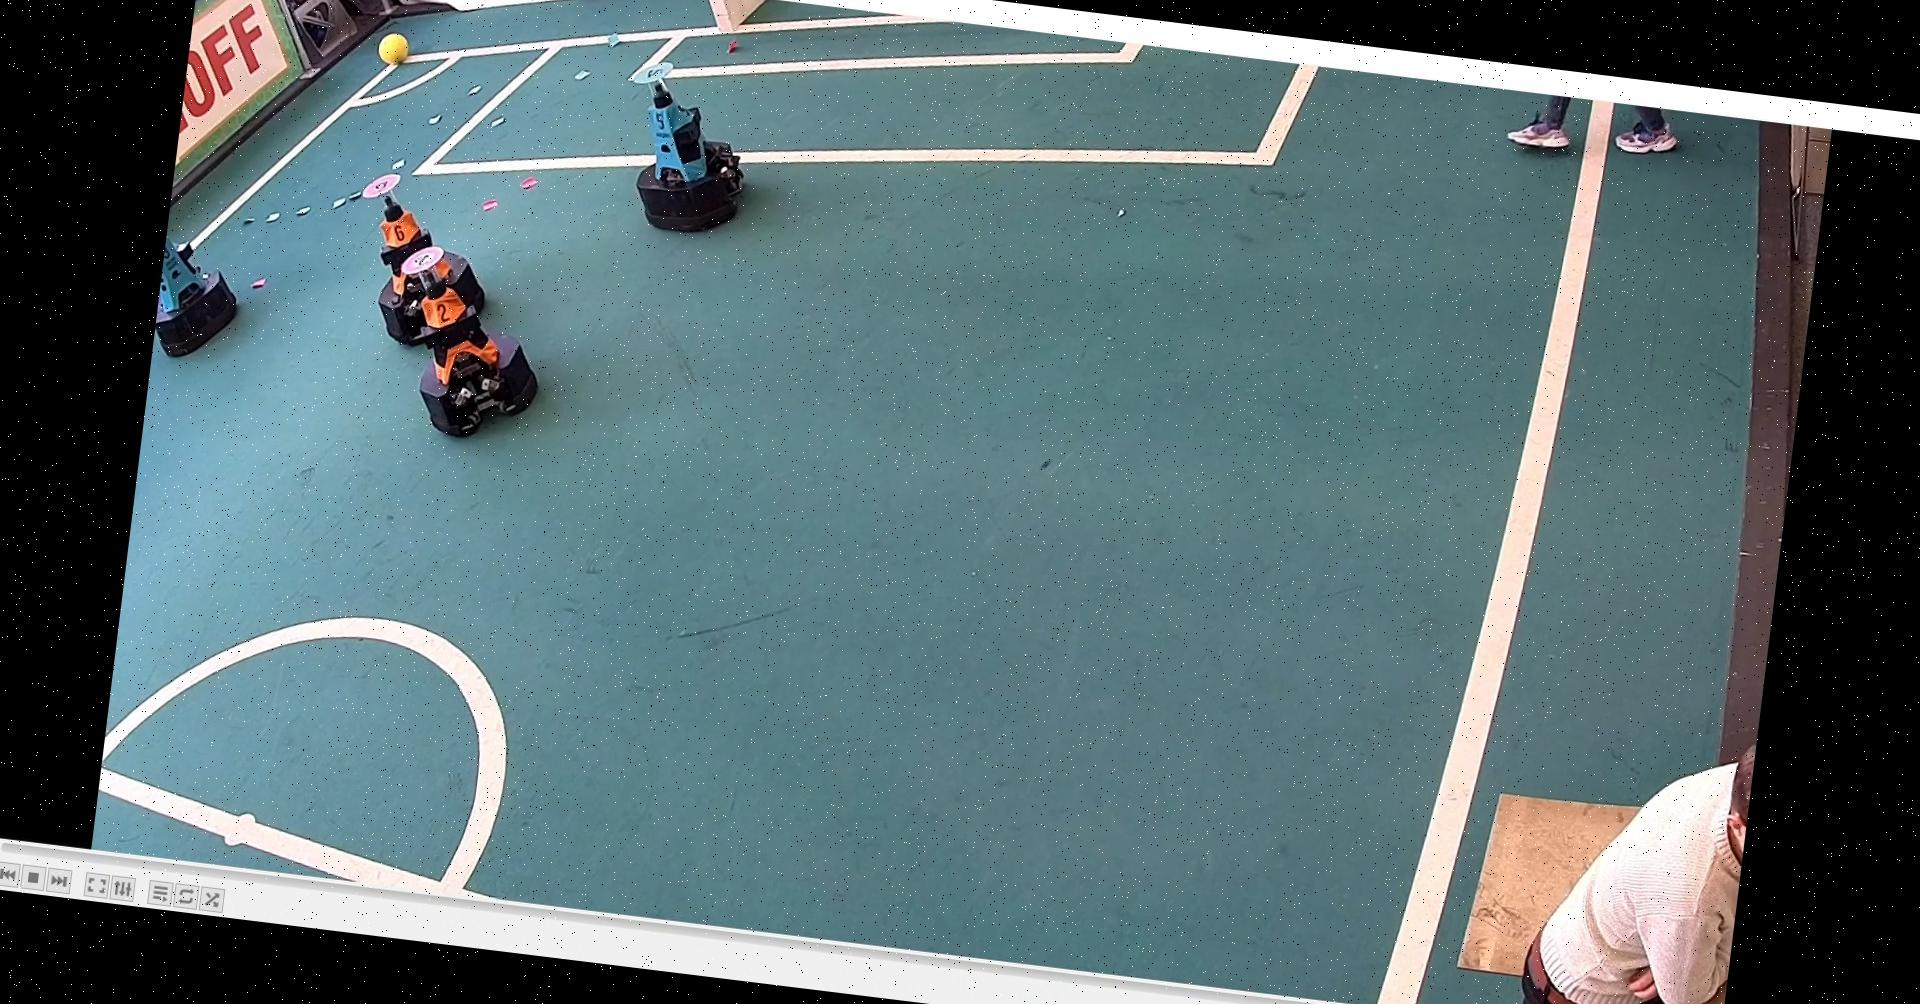Ball: (382, 30, 422, 67)
Team_Blue: (612, 48, 772, 244), (151, 216, 264, 363)
Team_Red: (376, 240, 557, 446), (340, 161, 500, 353)
